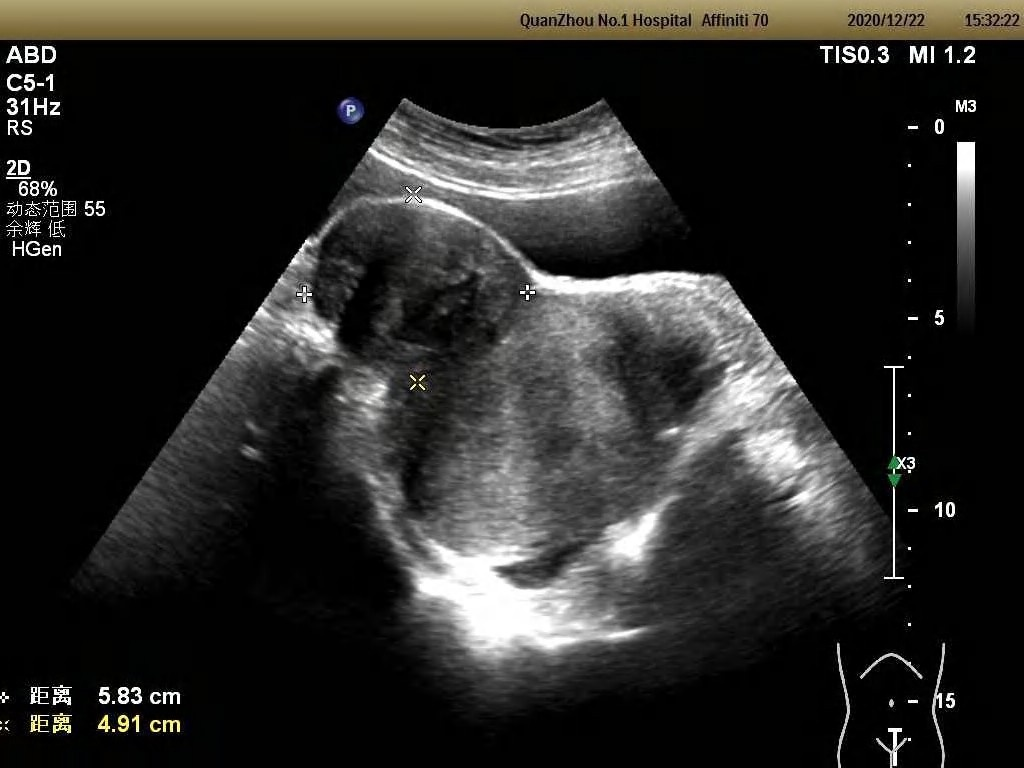肌瘤: (306, 199, 529, 380)
